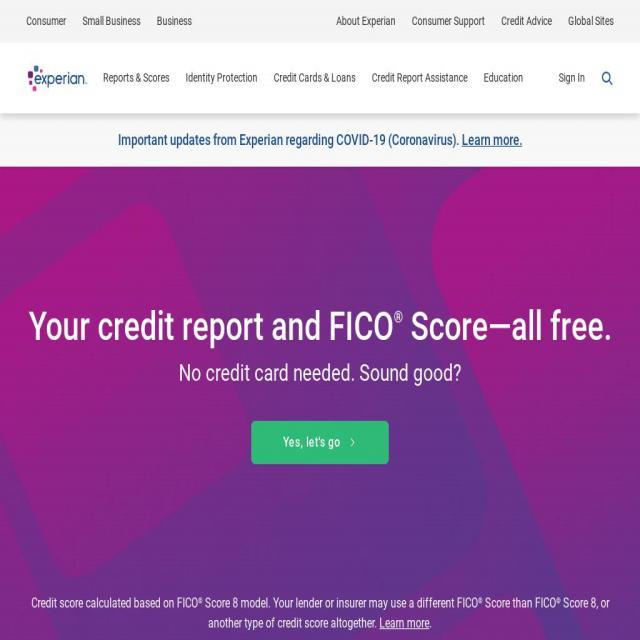login-option: (554, 56, 591, 99)
navigation-links: (18, 12, 626, 116)
search: (596, 60, 616, 93)
